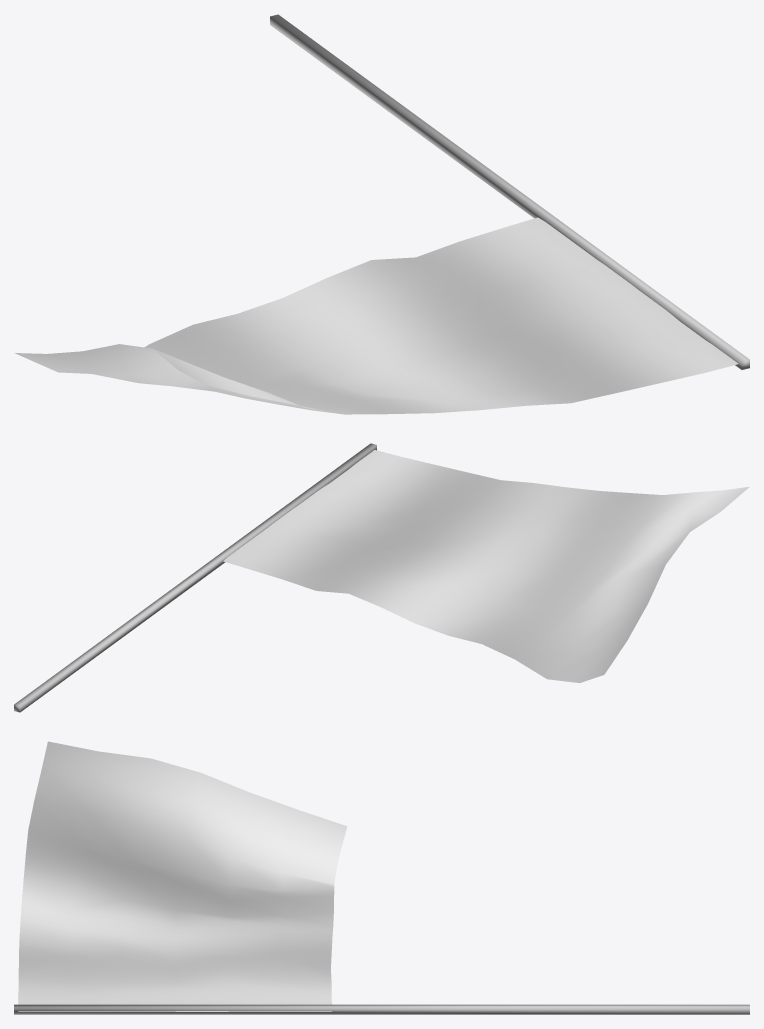
The model's file is drapeau.glb.
The picture shows the model from 3 angles, top to bottom: view 1: azimuth 30°, elevation 25°; view 2: azimuth 150°, elevation 25°; view 3: azimuth 270°, elevation 25°; orthographic projection. The views are drawn at different scales.
Parts seen in each view (by area): view 1: Drapeau; view 2: Drapeau; view 3: Drapeau.
Boxes of the visible parts, box(x1,y1,x2,y2) form: Drapeau: box(14, 14, 749, 414); Drapeau: box(14, 443, 749, 712); Drapeau: box(14, 741, 749, 1014).
Size of the model in its own units: 1.09 by 0.2786 by 1.69.
Materials: 1 (1 with a texture image).
